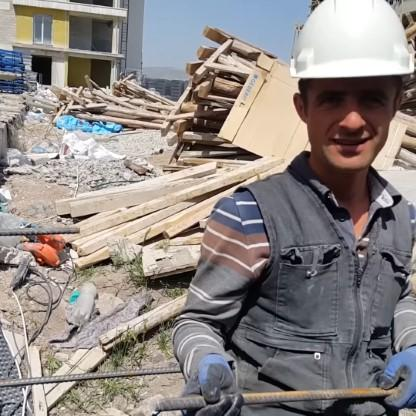helmet: (284, 11, 412, 203)
